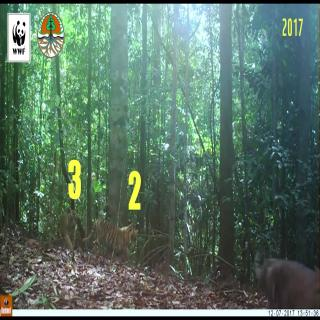Tiger: (92, 205, 138, 263), (50, 200, 76, 249)
